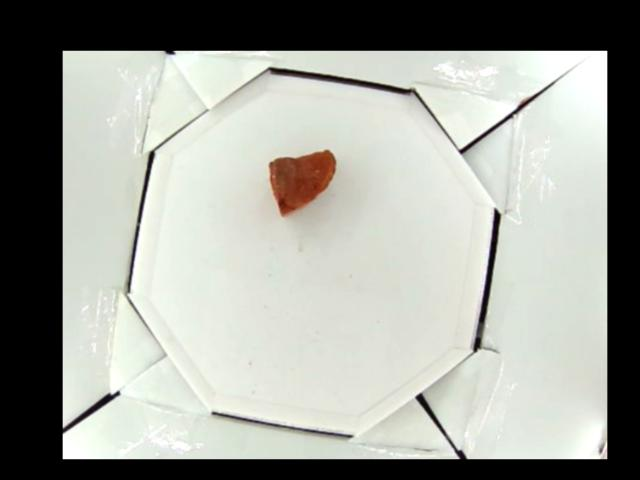Brisk: (267, 150, 336, 213)
